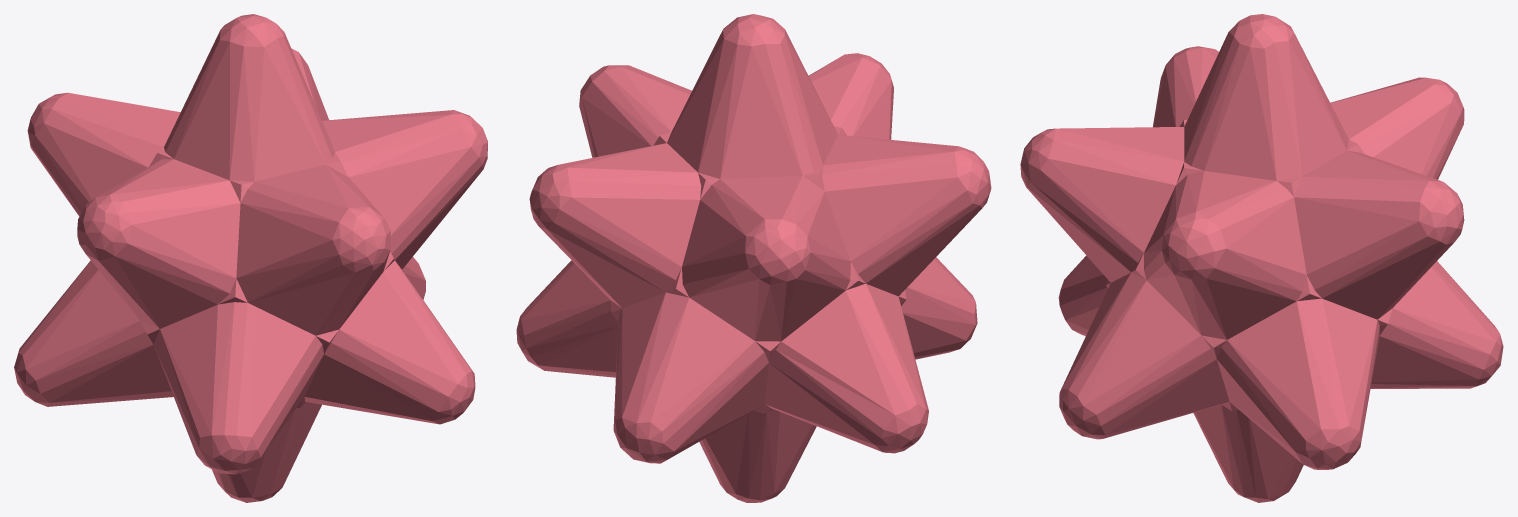
Rendered from pink.glb.
The picture shows the model from 3 angles, left to right: view 1: azimuth 30°, elevation 25°; view 2: azimuth 150°, elevation 25°; view 3: azimuth 270°, elevation 25°; orthographic projection.
Parts seen in each view (by area): view 1: Dodecahedron - Star Fragment; view 2: Dodecahedron - Star Fragment; view 3: Dodecahedron - Star Fragment.
Boxes of the visible parts, bbox=[...] form: Dodecahedron - Star Fragment: bbox=[14, 14, 487, 502]; Dodecahedron - Star Fragment: bbox=[516, 14, 991, 502]; Dodecahedron - Star Fragment: bbox=[1020, 14, 1503, 502].
Size of the model in its own units: 59.52 by 68.16 by 61.98.
